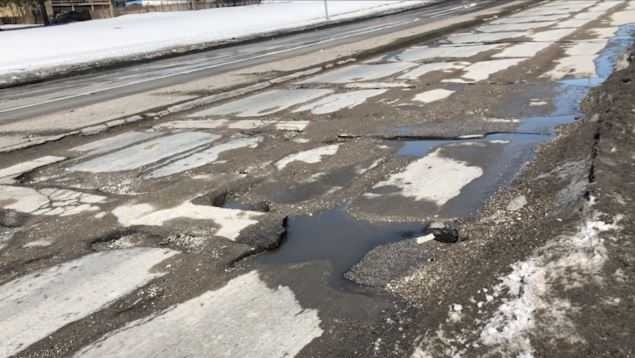pothole: (205, 97, 576, 284)
